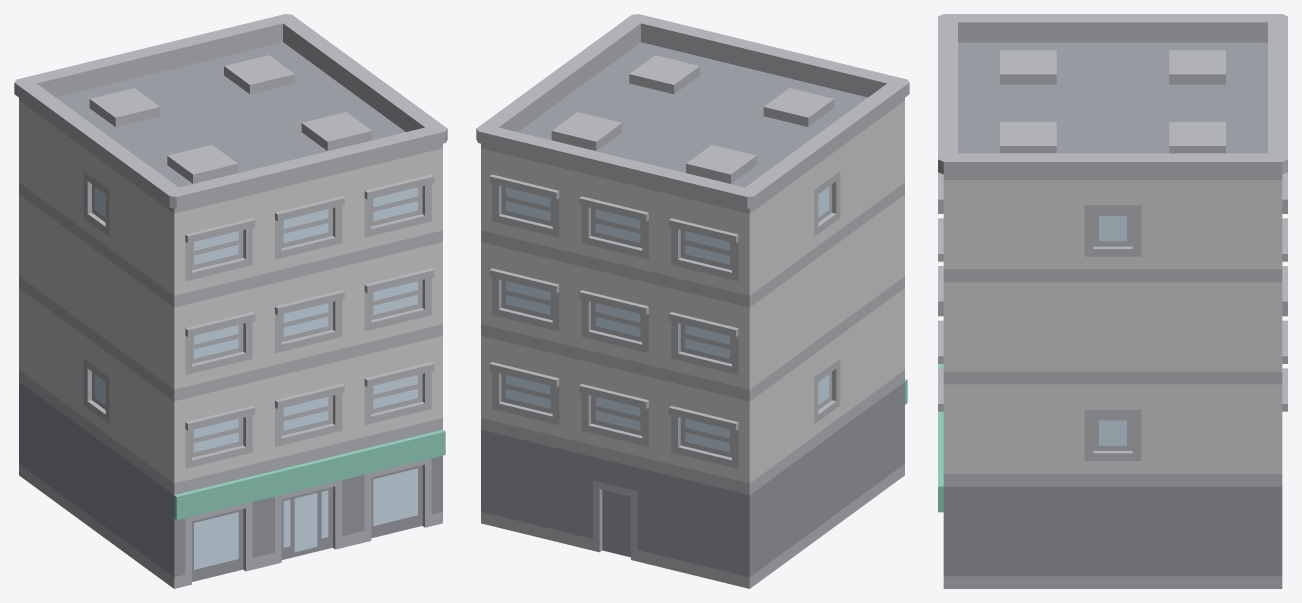
The model's file is large_buildingD.glb.
3 renders of one model, left to right at view 1: azimuth 30°, elevation 25°; view 2: azimuth 150°, elevation 25°; view 3: azimuth 270°, elevation 25°, orthographic. The views are drawn at different scales.
Parts seen in each view (by area): view 1: large_buildingD; view 2: large_buildingD; view 3: large_buildingD.
Boxes of the visible parts, x1,y1,x2,y2 form: large_buildingD: [14, 14, 447, 588]; large_buildingD: [476, 14, 909, 588]; large_buildingD: [938, 14, 1287, 588].
Size of the model in its own units: 1.24 by 1.68 by 1.24.
